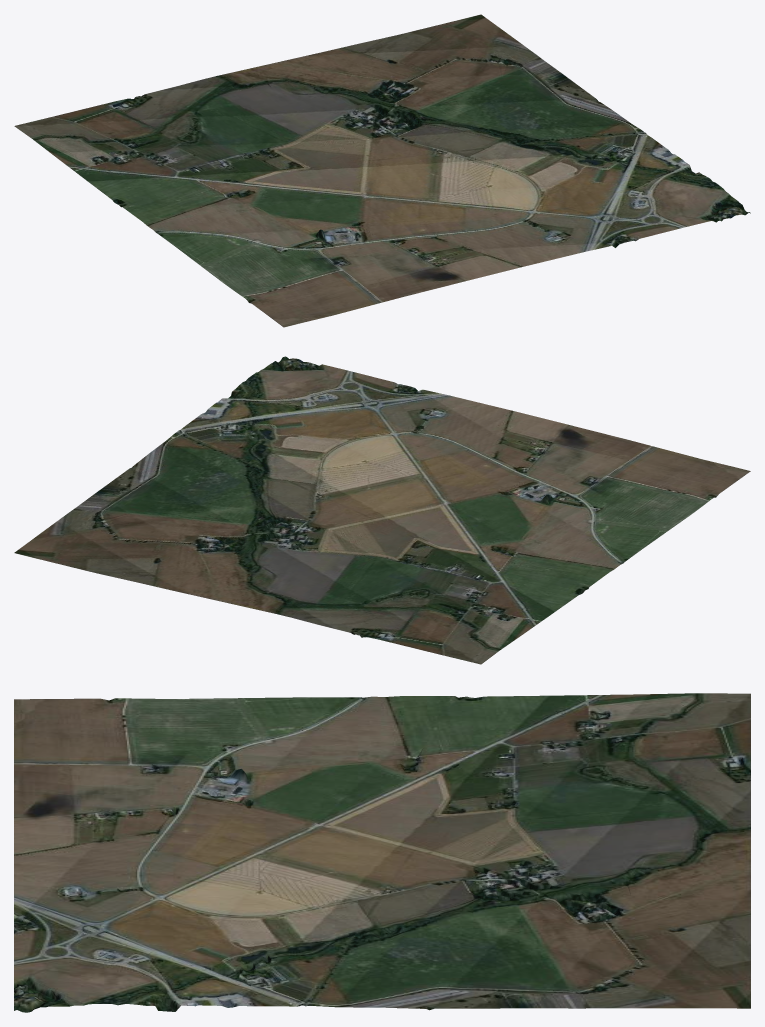
The model's file is map_10_254_431.dae.
3 renders of one model, top to bottom at view 1: azimuth 30°, elevation 25°; view 2: azimuth 150°, elevation 25°; view 3: azimuth 270°, elevation 25°, orthographic. The views are drawn at different scales.
Visible parts, largest first — view 1: Ter0; view 2: Ter0; view 3: Ter0.
Part boxes in pixels (x1,y1,x2,y2): Ter0: (14, 14, 750, 327); Ter0: (14, 356, 750, 664); Ter0: (14, 693, 750, 1012).
Size of the model in its own units: 2044 by 2044 by 40.48.
3 materials, 3 textured.
